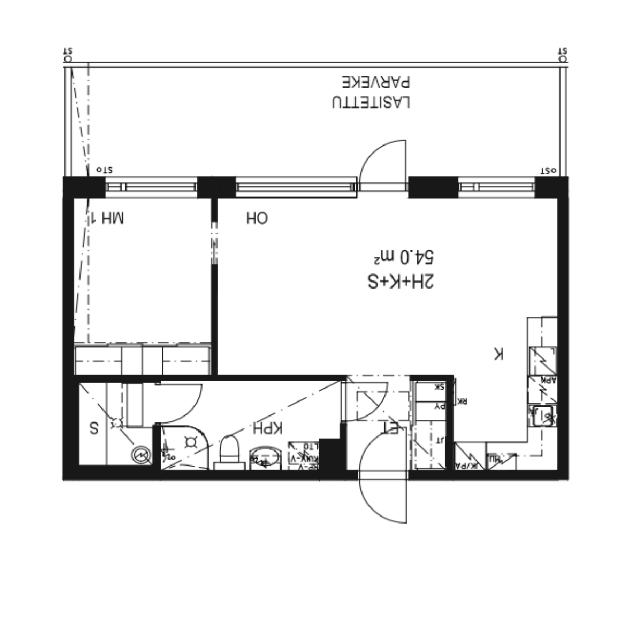door: (223, 187, 541, 373), (353, 426, 412, 527), (143, 377, 209, 428), (354, 134, 412, 192), (337, 382, 388, 426)
window: (230, 173, 357, 199), (94, 172, 205, 200), (449, 171, 545, 200)
zone: (220, 191, 518, 371), (66, 188, 217, 364), (155, 378, 337, 472), (74, 381, 160, 472), (143, 375, 208, 430), (410, 378, 448, 472)
